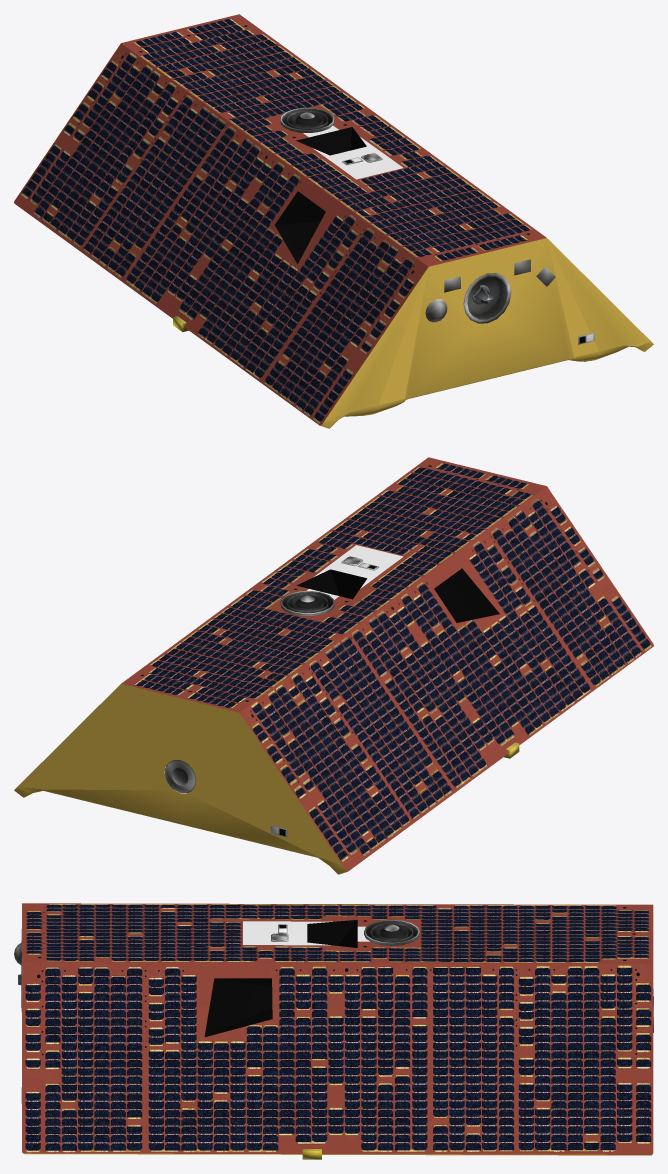
File: gracefo.glb
3 views of the same model, one above another, from view 1: azimuth 30°, elevation 25°; view 2: azimuth 150°, elevation 25°; view 3: azimuth 270°, elevation 25° (orthographic). The views are drawn at different scales.
Parts seen in each view (by area): view 1: BUS; view 2: BUS; view 3: BUS.
Part boxes in pixels (x1,y1,x2,y2): BUS: (14, 14, 653, 428); BUS: (14, 457, 653, 874); BUS: (14, 903, 653, 1159).
Size of the model in its own units: 2.03 by 0.8542 by 3.25.
4 materials, 1 textured.
